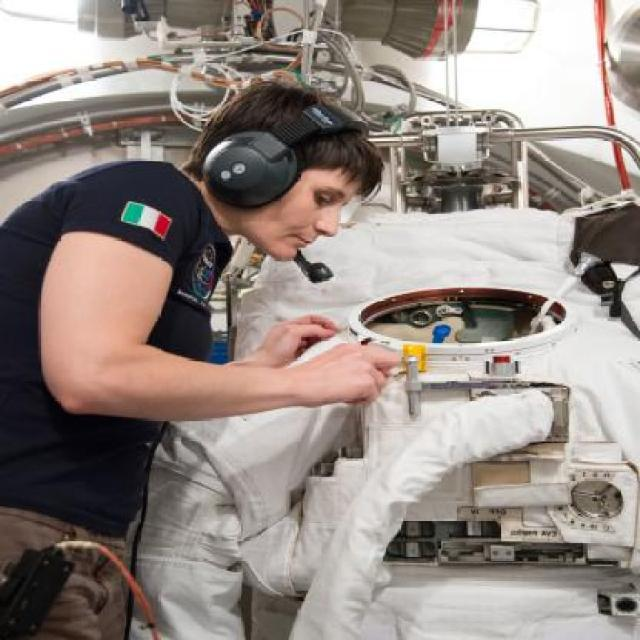earphone: (215, 92, 343, 206)
